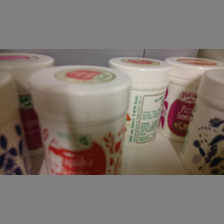spices: (28, 65, 130, 175), (111, 58, 172, 146), (178, 68, 224, 174)
